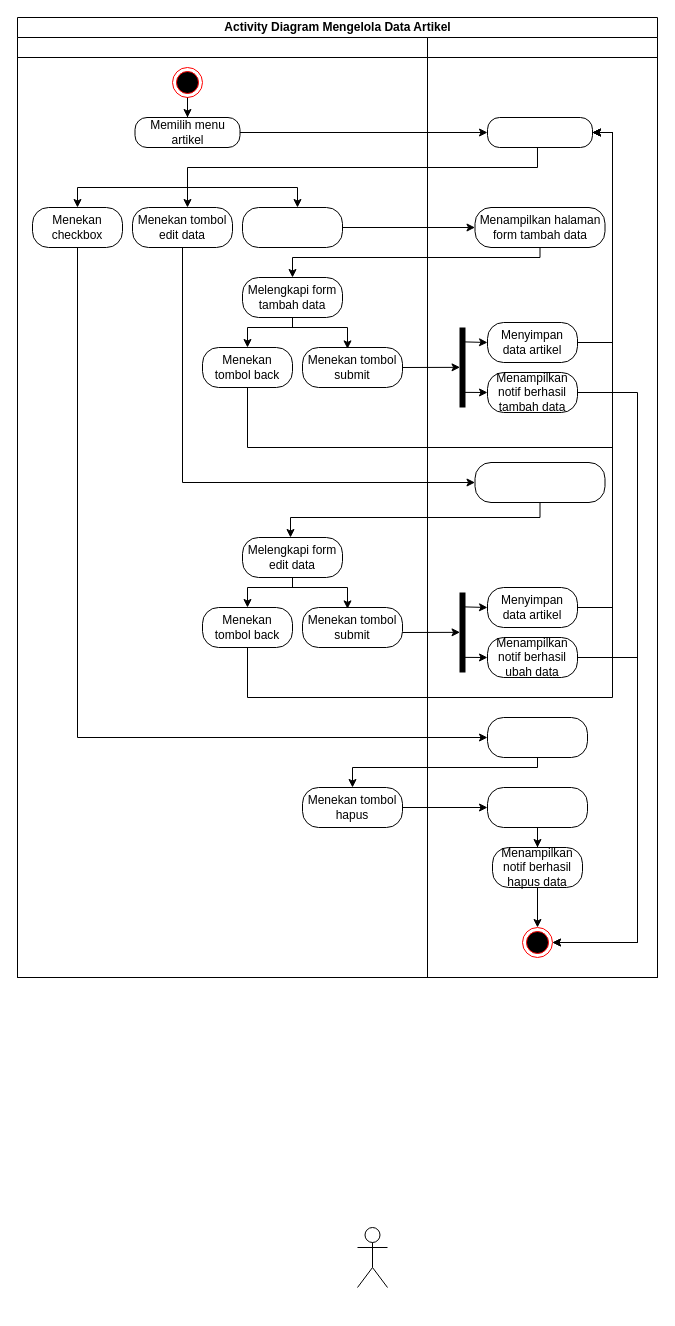
This 675x1326 diagram has some shape labels left out. Here are the shapes that lost their labels. From the top down, the box of each, then its label:
(486, 116, 592, 148): Menampilkan data artikel
(242, 206, 342, 248): Menekan tombol tambah data
(474, 462, 605, 502): Menampilkan halaman form edit data
(16, 36, 428, 978): Dokter
(426, 36, 658, 978): Sistem
(486, 716, 588, 758): Menampilkan tombol hapus
(486, 786, 588, 828): Menghapus data artikel
(356, 1226, 388, 1288): Actor
